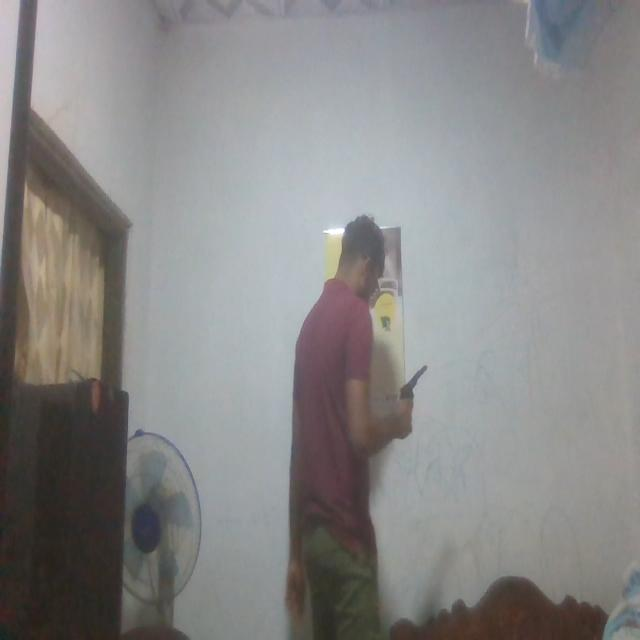Gun_Holder: (387, 353, 438, 433)
Person: (265, 213, 415, 640)
